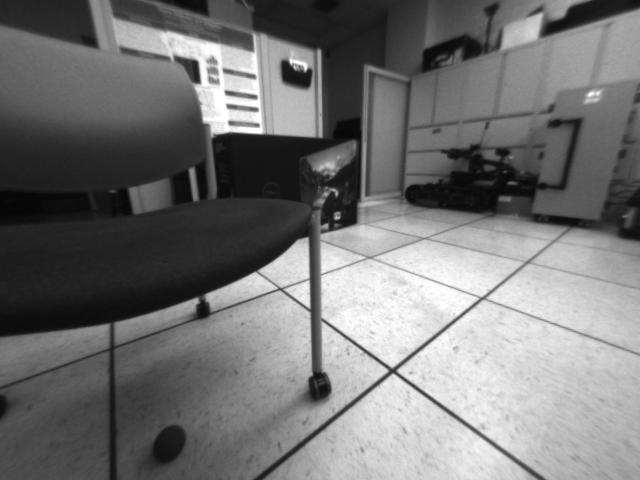dogtoy: (146, 412, 196, 466)
